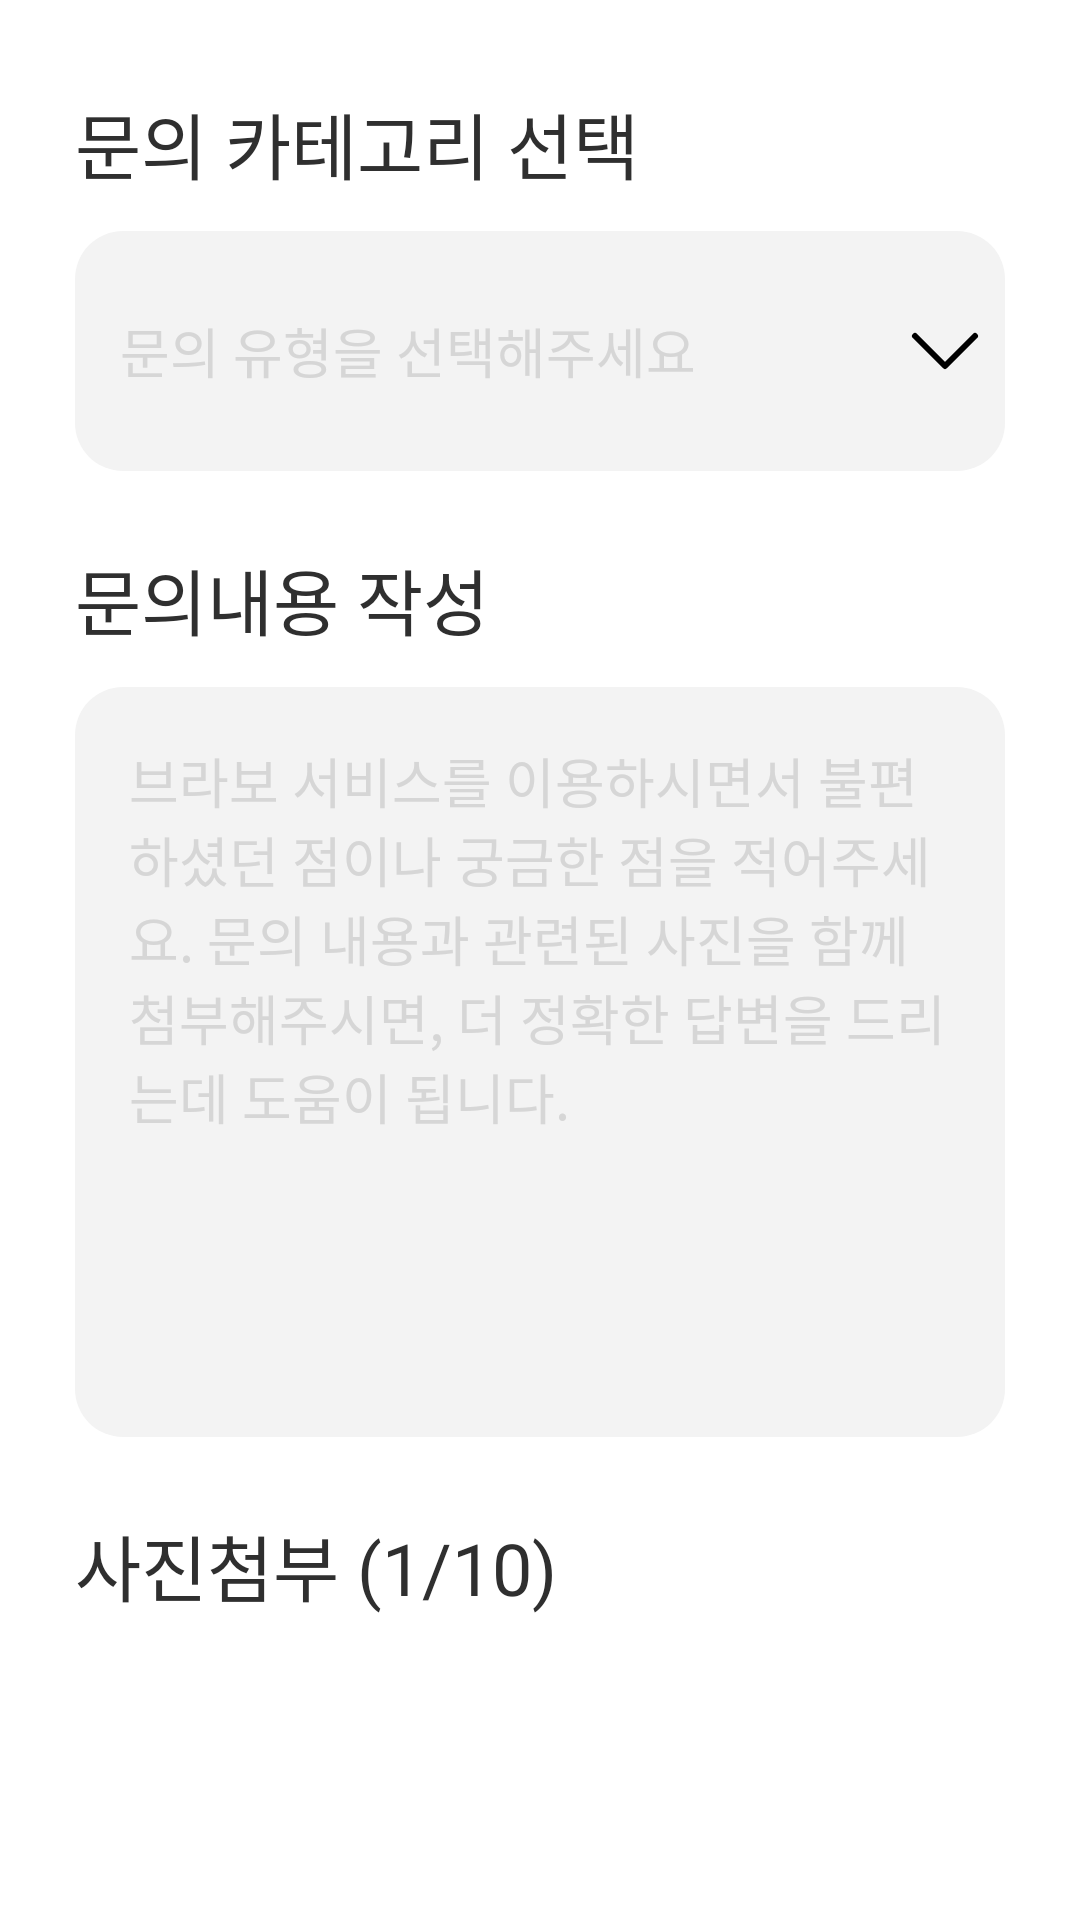

Named icons in this screenshot (1080×1920) and their centers, point (x, y):
arrow down line: point (945, 350)
